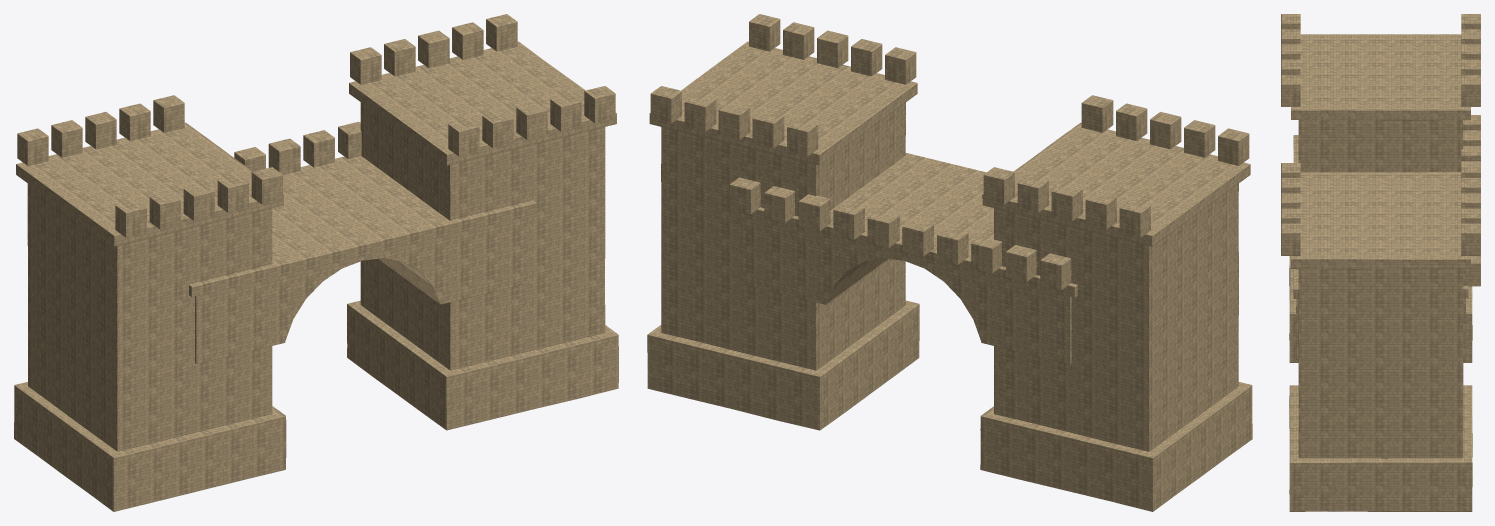
File: w_gate.glb
3 views of the same model, side by side, from view 1: azimuth 30°, elevation 25°; view 2: azimuth 150°, elevation 25°; view 3: azimuth 270°, elevation 25° (orthographic). The views are drawn at different scales.
Parts seen in each view (by area): view 1: gate; view 2: gate; view 3: gate.
Boxes of the visible parts, box(x1,y1,x2,y2) form: gate: box(14, 14, 618, 511); gate: box(647, 14, 1252, 511); gate: box(1281, 14, 1480, 511).
Bounding box in the file's own units: 41.03 × 23.32 × 15.3.
1 material, 1 textured.
